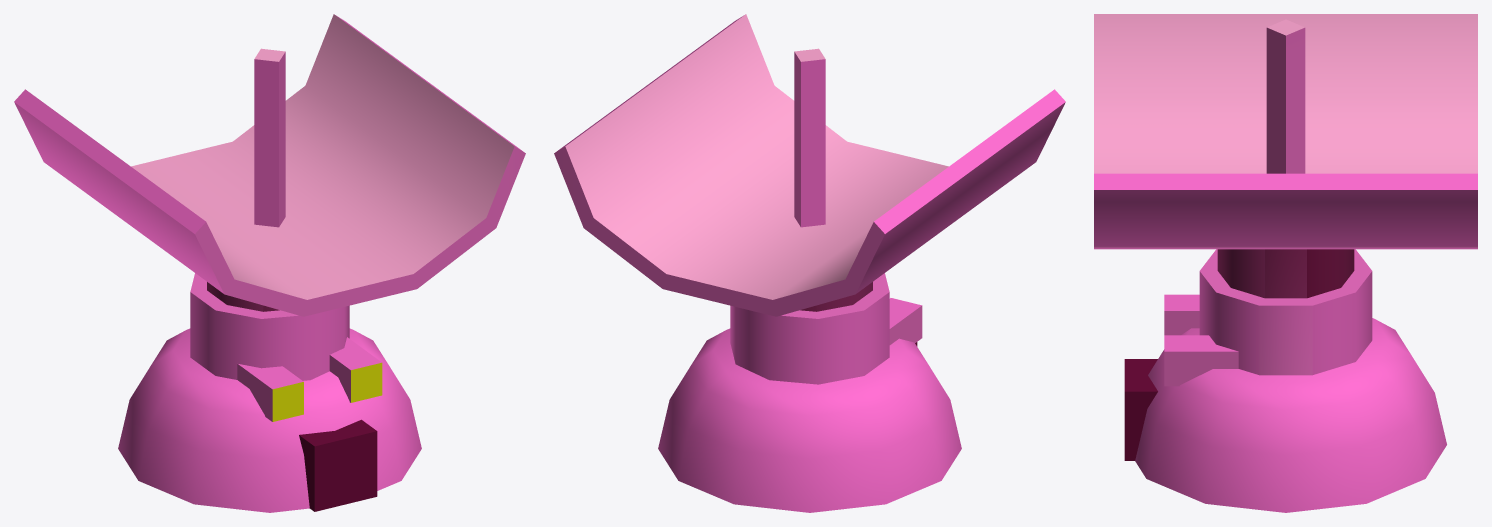
The model's file is Lab.PinkCosmos.glb.
3 renders of one model, left to right at view 1: azimuth 30°, elevation 25°; view 2: azimuth 150°, elevation 25°; view 3: azimuth 270°, elevation 25°, orthographic. The views are drawn at different scales.
Visible parts, largest first — view 1: Lab.PinkCosmos; view 2: Lab.PinkCosmos; view 3: Lab.PinkCosmos.
Boxes of the visible parts, left/top/right/bottom form: Lab.PinkCosmos: left=14, top=14, right=525, bottom=512; Lab.PinkCosmos: left=554, top=14, right=1065, bottom=512; Lab.PinkCosmos: left=1094, top=14, right=1477, bottom=512.
Bounding box in the file's own units: 2.11 × 2.41 × 2.
2 materials, 1 textured.
